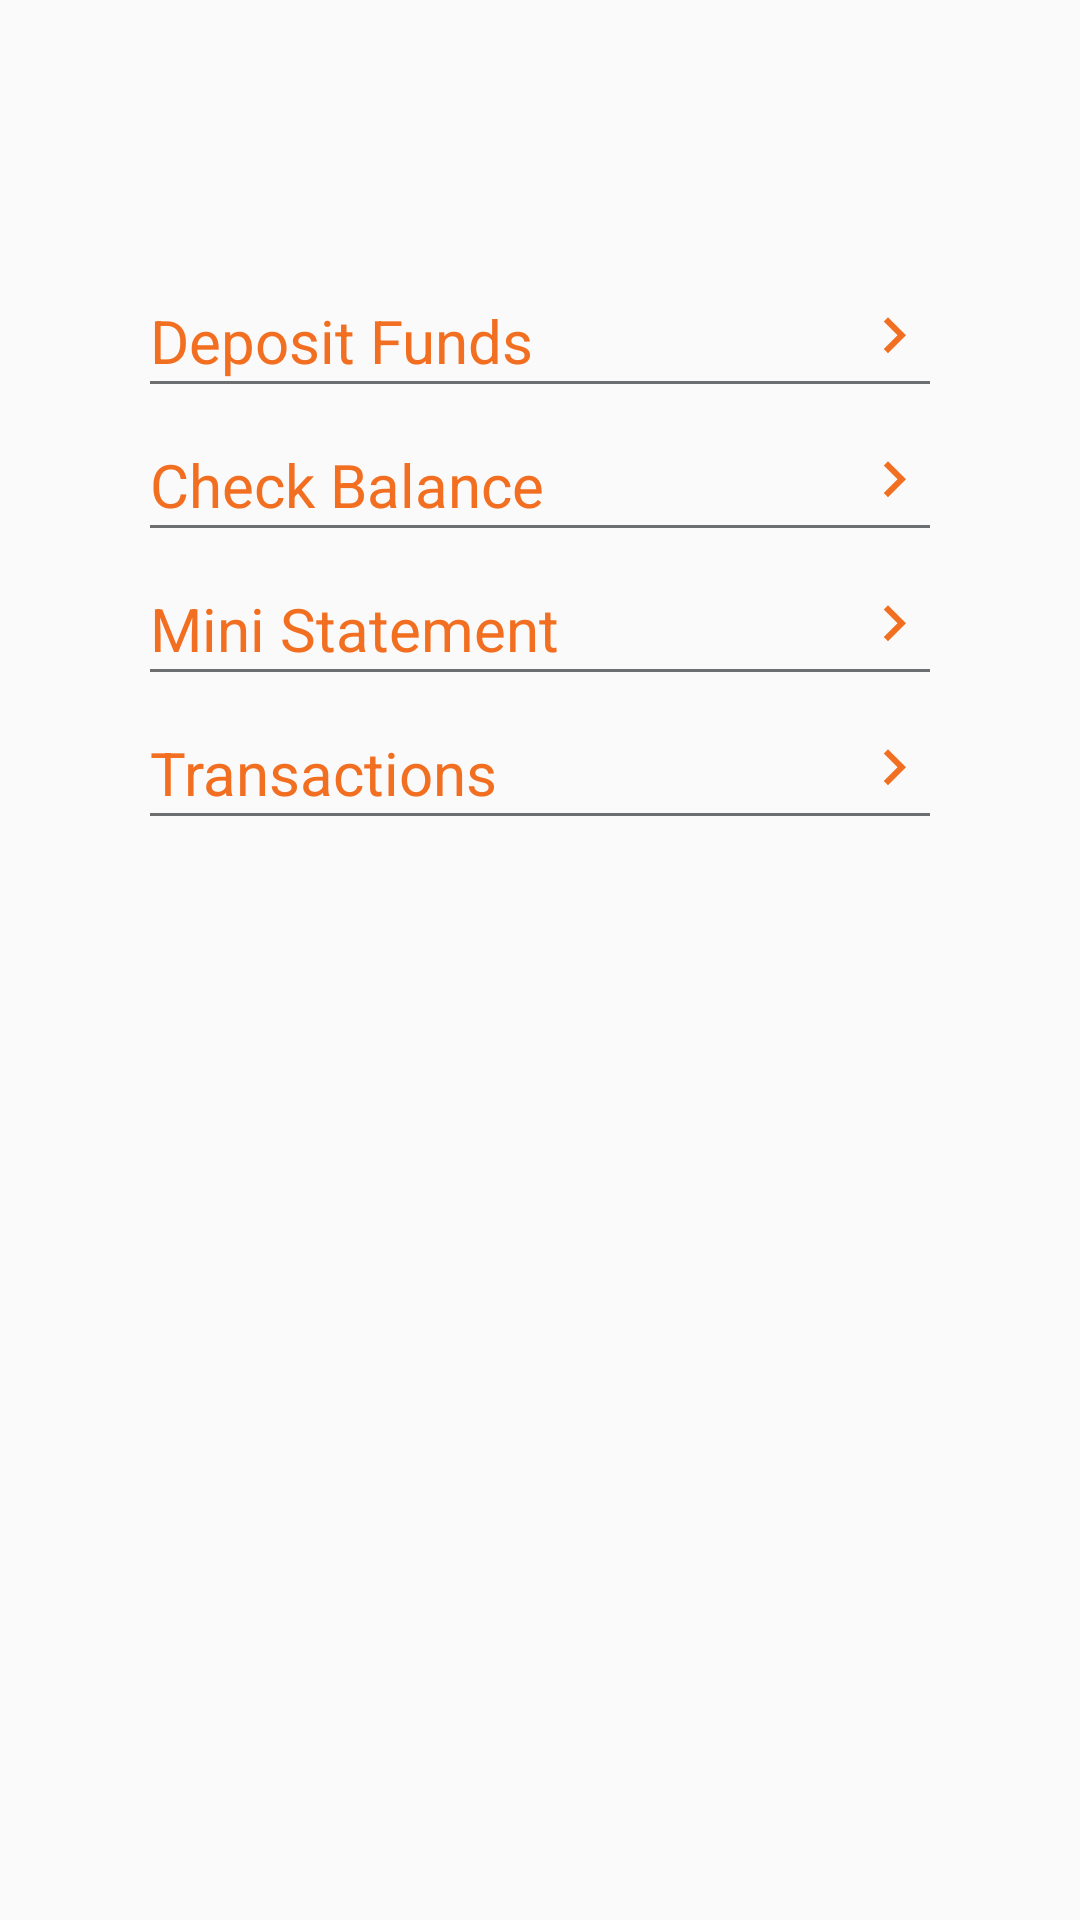

Icons on this 1080x1920 Android screen, each with its box as (x1, y1, x2, y2):
arrow right: (884, 317, 906, 353), (884, 461, 906, 497), (884, 605, 906, 641), (884, 749, 906, 785)
